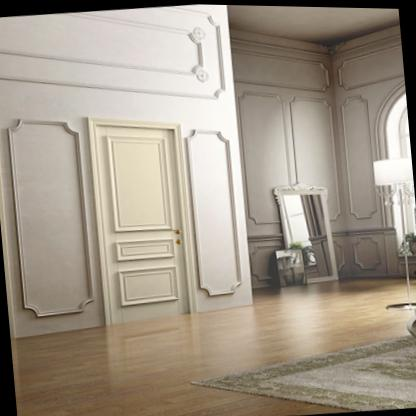Futec frame: (2, 100, 248, 329), (234, 84, 347, 232)
